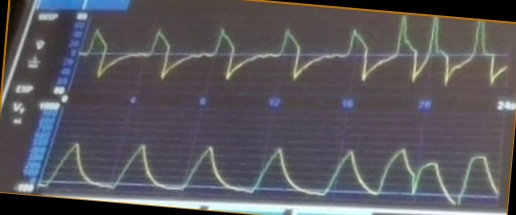Double_Triggering Flow: (85, 16, 508, 88)
Double_Triggering Volume: (75, 139, 497, 203)
